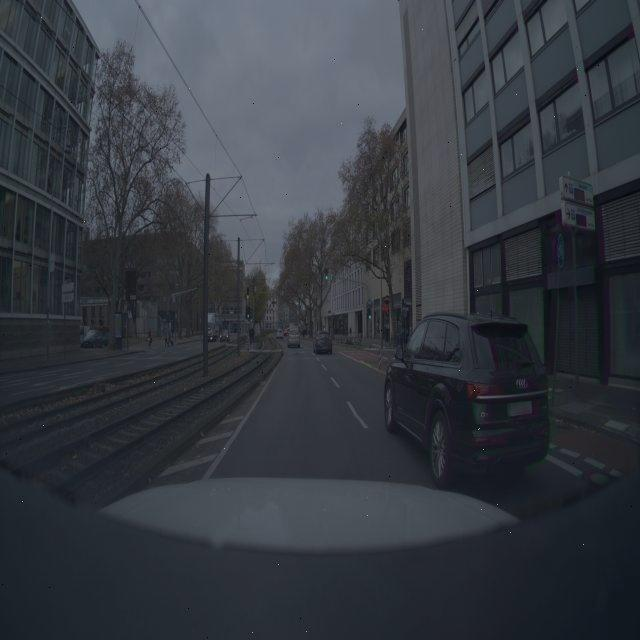Green: (318, 262, 336, 300), (239, 302, 258, 334), (362, 298, 379, 332)
